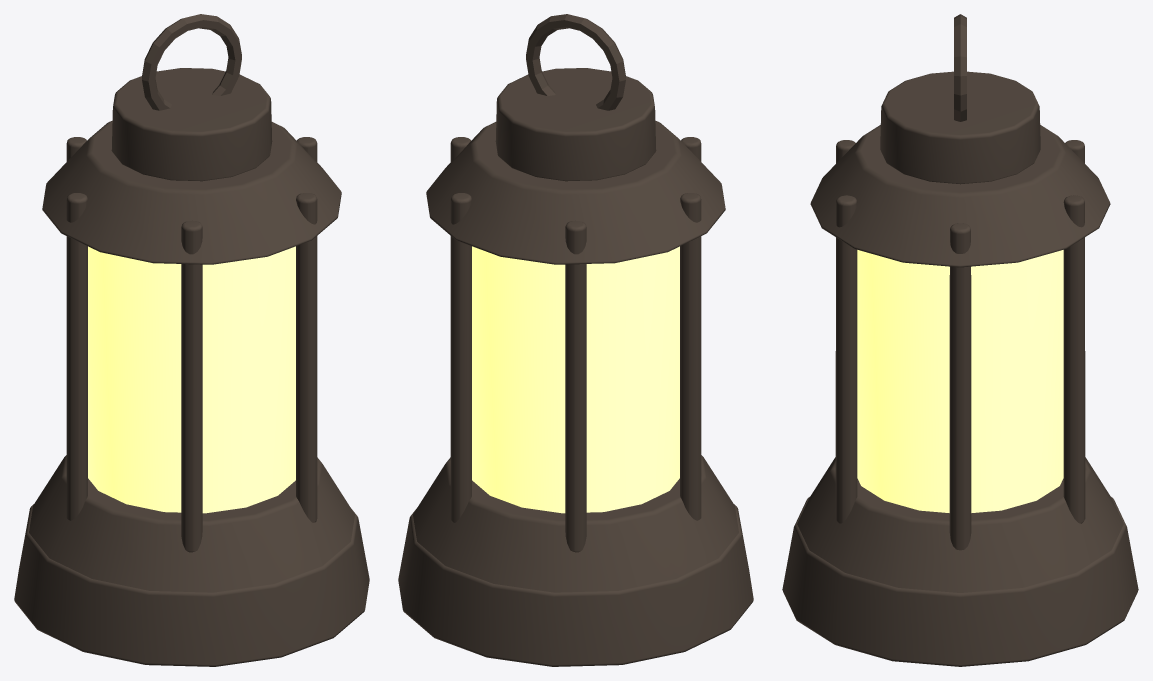
Rendered from Lantern.fbx.
3 views of the same model, side by side, from view 1: azimuth 30°, elevation 25°; view 2: azimuth 150°, elevation 25°; view 3: azimuth 270°, elevation 25° (orthographic).
Parts seen in each view (by area): view 1: Lantern; view 2: Lantern; view 3: Lantern.
Boxes of the visible parts, x1=… form: Lantern: x1=14, y1=14, x2=369, y2=666; Lantern: x1=398, y1=14, x2=753, y2=666; Lantern: x1=782, y1=14, x2=1138, y2=666.
Bounding box in the file's own units: 0.279 × 0.4953 × 0.279.
